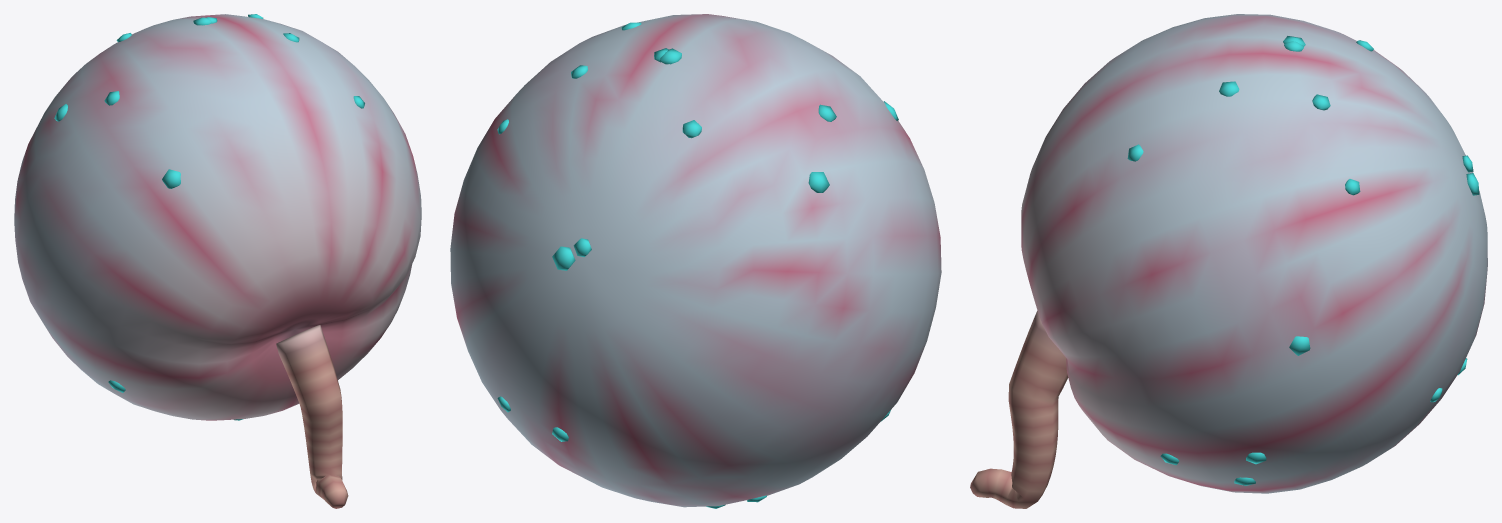
Rendered from Noctiluca.fbx.
The picture shows the model from 3 angles, left to right: view 1: azimuth 30°, elevation 25°; view 2: azimuth 150°, elevation 25°; view 3: azimuth 270°, elevation 25°; orthographic projection. The views are drawn at different scales.
Parts seen in each view (by area): view 1: Noctiluca; view 2: Noctiluca; view 3: Noctiluca.
Boxes of the visible parts, bbox=[...] form: Noctiluca: bbox=[14, 14, 421, 508]; Noctiluca: bbox=[450, 14, 941, 508]; Noctiluca: bbox=[970, 14, 1487, 508].
Bounding box in the file's own units: 1.24 × 1.32 × 1.34.
